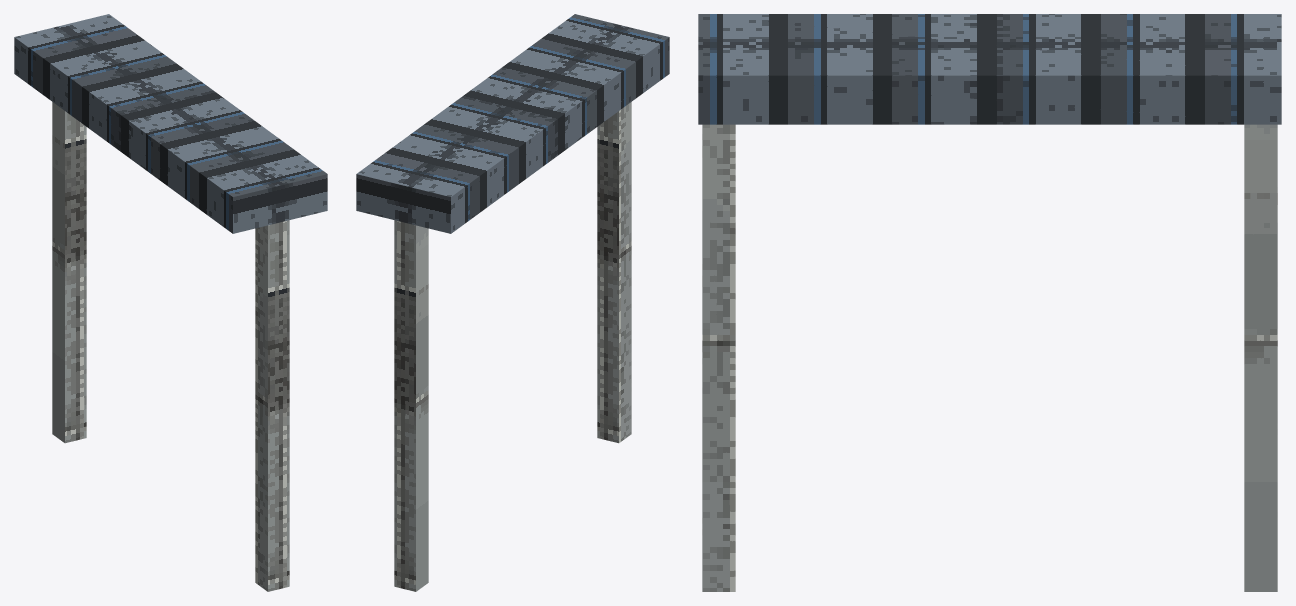
The model's file is cf_shutter_track.glb.
3 views of the same model, side by side, from view 1: azimuth 30°, elevation 25°; view 2: azimuth 150°, elevation 25°; view 3: azimuth 270°, elevation 25° (orthographic). The views are drawn at different scales.
Visible parts, largest first — view 1: track_head, track_rail_-1, track_rail_1; view 2: track_head, track_rail_1, track_rail_-1; view 3: track_head, track_rail_-1, track_rail_1.
Boxes of the visible parts, bbox=[...] form: track_head: bbox=[14, 14, 327, 233]; track_rail_-1: bbox=[255, 220, 289, 591]; track_rail_1: bbox=[52, 102, 86, 443]; track_head: bbox=[356, 14, 669, 233]; track_rail_1: bbox=[394, 220, 428, 591]; track_rail_-1: bbox=[597, 102, 631, 443]; track_head: bbox=[698, 14, 1281, 124]; track_rail_-1: bbox=[702, 124, 735, 591]; track_rail_1: bbox=[1244, 124, 1277, 591].
Bounding box in the file's own units: 0.7 × 2.86 × 2.8.
3 materials, 3 textured.
